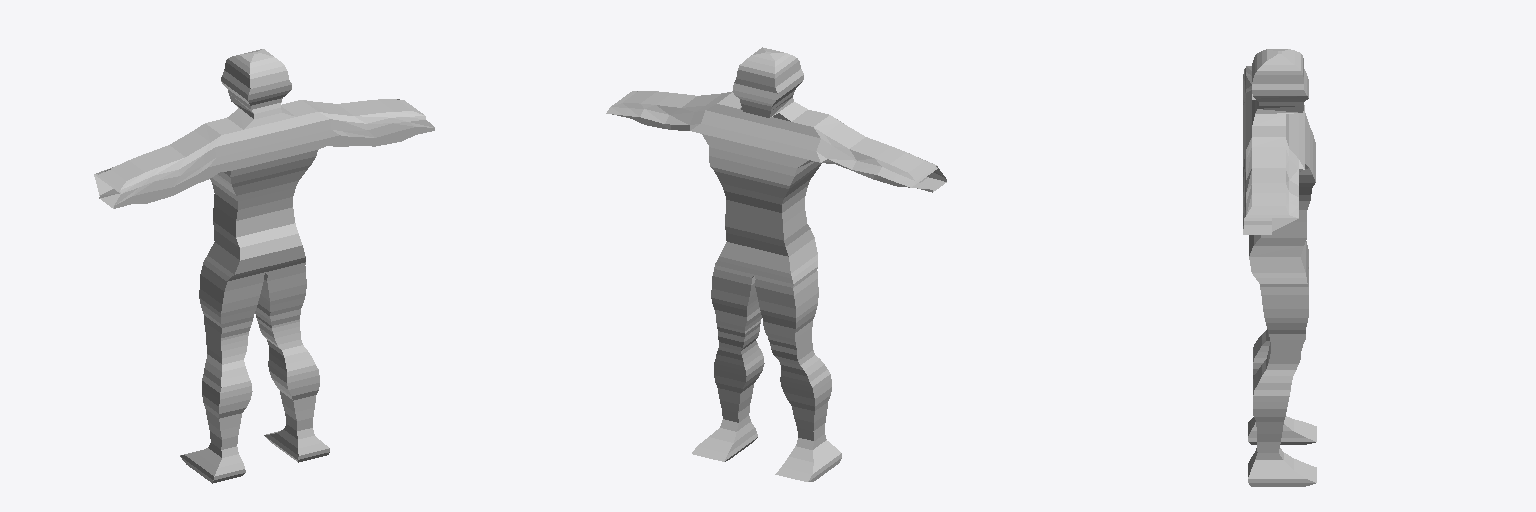
The model's file is human-male-01.obj.
The picture shows the model from 3 angles: view 1: azimuth 30°, elevation 25°; view 2: azimuth 150°, elevation 25°; view 3: azimuth 270°, elevation 25°; orthographic projection.
Parts seen in each view (by area): view 1: Cube; view 2: Cube; view 3: Cube.
Boxes of the visible parts, <box> form: Cube: <box>94,49,434,483</box>; Cube: <box>606,47,946,481</box>; Cube: <box>1243,49,1316,486</box>.
Bounding box in the file's own units: 5.96 × 7.19 × 1.18.